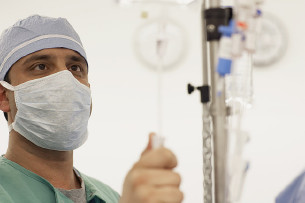face_mask: (10, 44, 88, 151)
